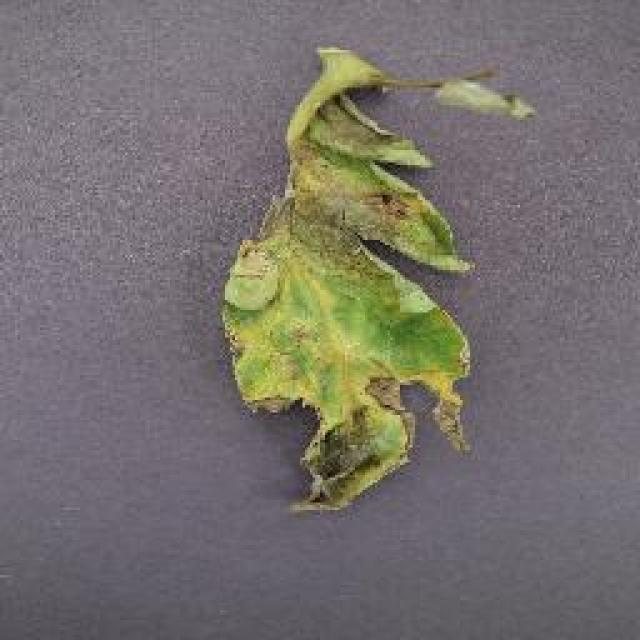Tomato___Late_blight: (220, 48, 535, 512)
